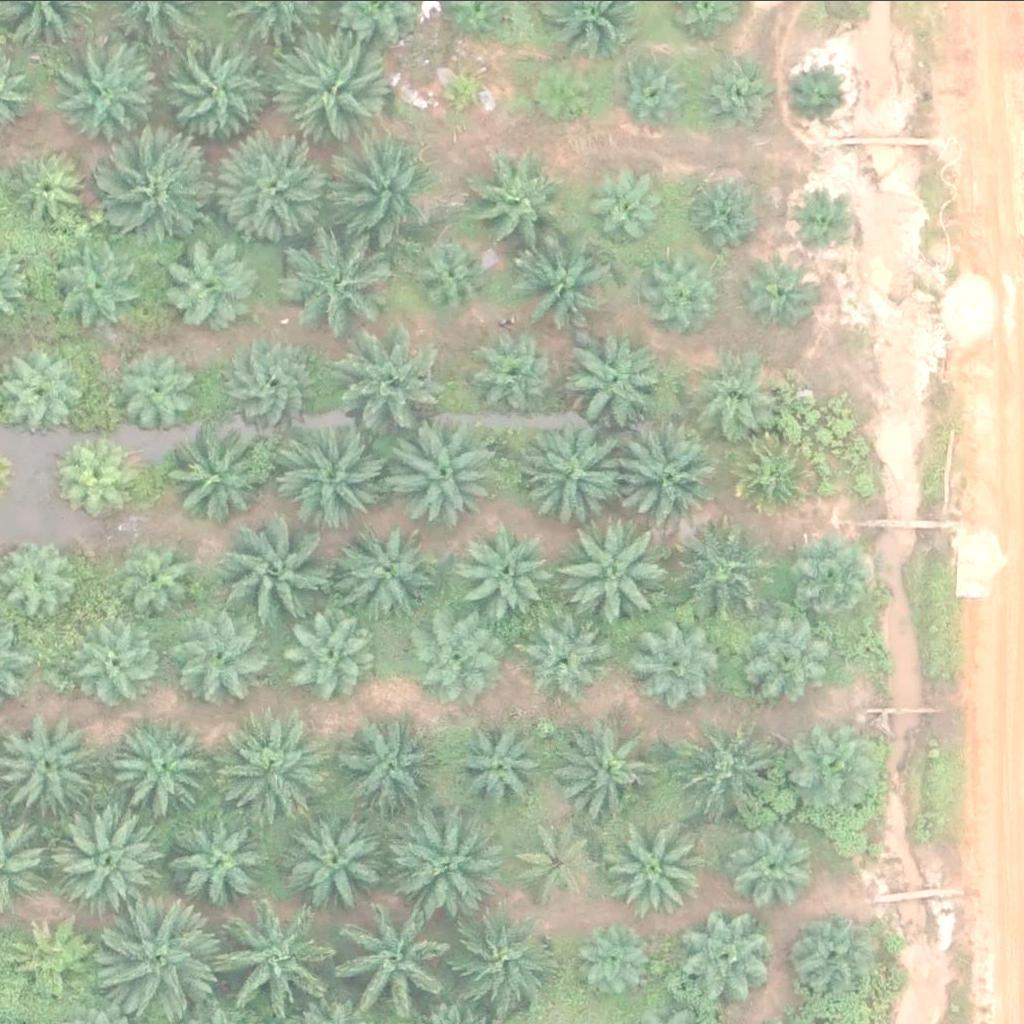Kelapa_Sawit: (384, 421, 498, 534), (156, 32, 269, 145), (217, 135, 330, 248), (611, 416, 724, 529), (515, 424, 628, 537), (114, 712, 227, 825), (223, 711, 336, 824), (280, 801, 393, 914), (106, 902, 219, 1015), (319, 136, 433, 248), (280, 419, 394, 531), (557, 517, 671, 629), (57, 40, 170, 152), (274, 35, 387, 147), (108, 138, 221, 250), (325, 325, 438, 437), (219, 521, 332, 633), (680, 717, 793, 829), (58, 801, 171, 913), (396, 804, 509, 916), (231, 901, 344, 1013), (349, 901, 462, 1013), (447, 906, 560, 1018), (471, 154, 572, 254), (520, 240, 621, 340), (292, 240, 393, 340), (568, 330, 669, 430), (168, 427, 269, 527), (336, 524, 437, 624), (673, 522, 774, 622), (173, 603, 274, 703), (566, 720, 667, 820), (173, 807, 274, 907), (606, 816, 707, 916), (158, 233, 258, 333), (226, 335, 326, 435), (793, 711, 893, 811), (673, 907, 773, 1007), (341, 714, 442, 813), (693, 53, 781, 141), (731, 434, 819, 522), (7, 145, 95, 233), (409, 231, 497, 319), (469, 524, 557, 612), (637, 622, 725, 710), (72, 624, 160, 712), (781, 908, 869, 996), (57, 246, 146, 333), (744, 612, 833, 699), (512, 814, 601, 901), (612, 44, 700, 131), (116, 349, 204, 436), (478, 327, 566, 414), (698, 350, 786, 437), (120, 536, 208, 623), (790, 534, 878, 621), (515, 622, 603, 709), (403, 613, 491, 700), (288, 610, 376, 697), (454, 719, 542, 806), (575, 915, 663, 1002), (734, 817, 822, 904), (10, 913, 98, 1000), (595, 173, 671, 248), (683, 171, 759, 246), (530, 53, 606, 128), (66, 439, 142, 514), (650, 253, 725, 328), (750, 255, 825, 330), (791, 194, 854, 257), (787, 62, 850, 124), (431, 59, 494, 121)
